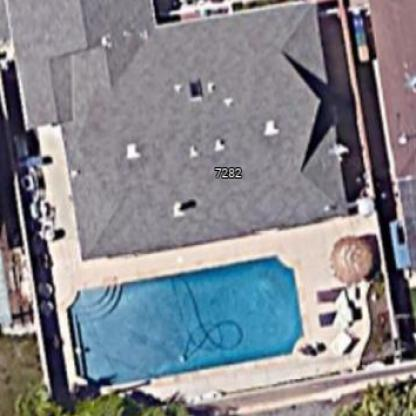pool: (55, 247, 313, 397)
